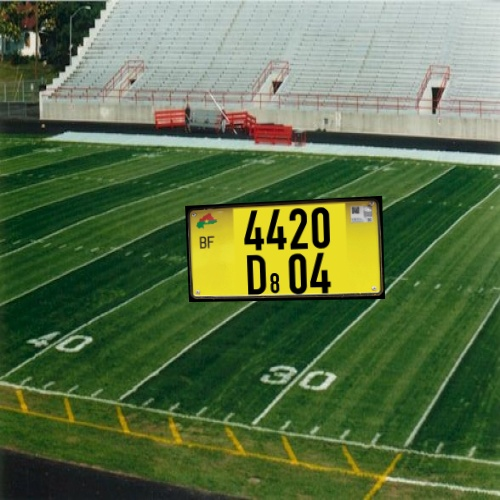plate: (180, 196, 397, 311)
